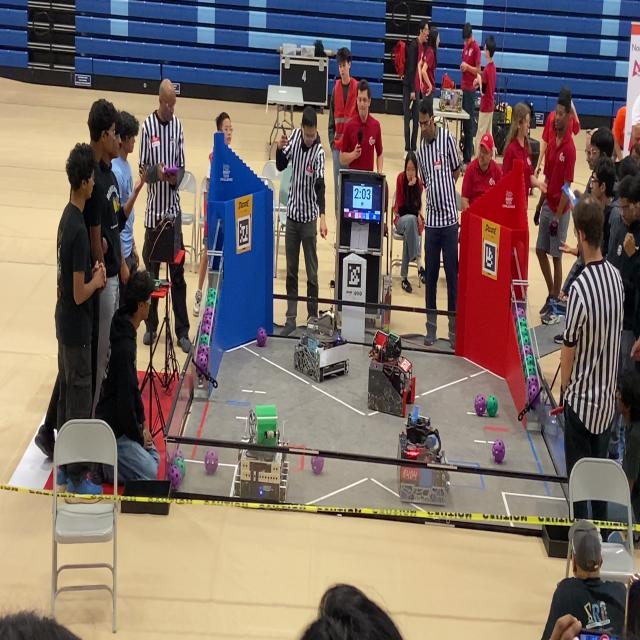artifact_green: (517, 331, 530, 351), (174, 458, 185, 479), (517, 319, 530, 336), (487, 395, 497, 417), (524, 363, 536, 379), (519, 334, 530, 348), (526, 355, 535, 371), (517, 328, 523, 351), (518, 318, 528, 331), (206, 301, 214, 317), (206, 300, 214, 316), (205, 304, 215, 316), (207, 288, 216, 301), (199, 334, 209, 345), (525, 368, 536, 378), (528, 363, 537, 375), (522, 328, 530, 341), (207, 294, 215, 306), (523, 361, 528, 377), (208, 287, 215, 295)
artifact_purple: (168, 465, 182, 490), (205, 449, 218, 475), (528, 382, 540, 409), (492, 439, 505, 463), (311, 456, 324, 474), (475, 395, 486, 416), (196, 353, 208, 372), (528, 377, 540, 394), (257, 328, 267, 347), (521, 345, 532, 360), (202, 317, 212, 333), (171, 449, 183, 462), (527, 376, 539, 388), (197, 344, 208, 357), (165, 449, 170, 477), (203, 307, 213, 319), (517, 307, 526, 318), (203, 314, 212, 325), (204, 306, 213, 315)
